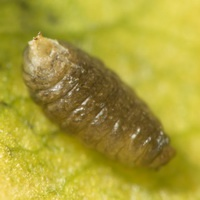insect: (23, 33, 174, 167)
